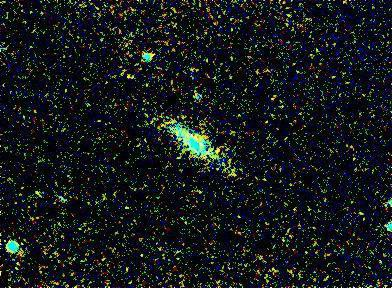star: (206, 136, 236, 166)
